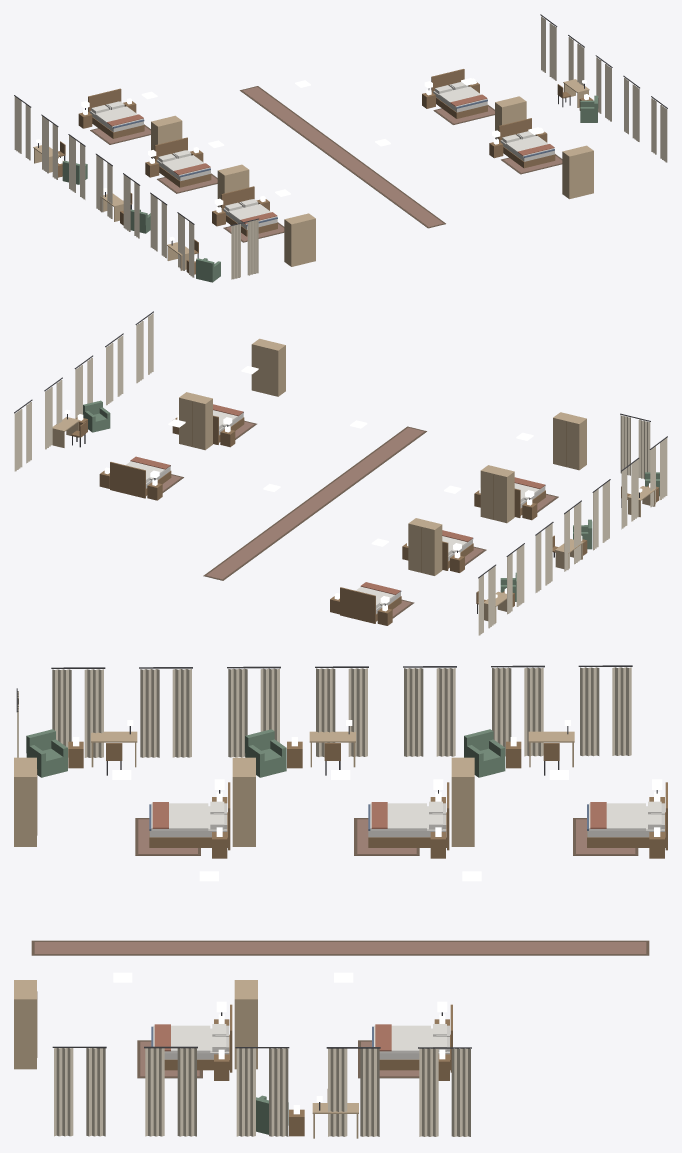
The model's file is fine-s3.glb.
3 views of the same model, one above another, from view 1: azimuth 30°, elevation 25°; view 2: azimuth 150°, elevation 25°; view 3: azimuth 270°, elevation 25° (orthographic). The views are drawn at different scales.
Parts seen in each view (by area): view 1: soft-s3, dresser.011, dresser.014, bed-frame.012, bed-frame.013, bed-frame.011, bed-frame.010, bed-frame.014, dresser.013, dresser.012, dresser.010, lounge-chair.011 (+1 smaller); view 2: soft-s3, dresser.013, dresser.012, dresser.011, dresser.014, dresser.010, bed-frame.010, bed-frame.012, lounge-chair.008, writing-desk.008; view 3: soft-s3, dresser.012, dresser.013, dresser.011, dresser.014, dresser.010, bed-frame.013, bed-frame.014, lounge-chair.009, bed-frame.012, lounge-chair.011, lounge-chair.010 (+5 smaller).
Part boxes in pixels (x1,y1,x2,y2): soft-s3: [14, 14, 667, 279]; dresser.011: [562, 145, 593, 199]; dresser.014: [284, 213, 315, 266]; bed-frame.012: [88, 88, 144, 138]; bed-frame.013: [154, 137, 211, 187]; bed-frame.011: [498, 118, 555, 168]; bed-frame.010: [431, 69, 487, 118]; bed-frame.014: [221, 186, 277, 236]; dresser.013: [217, 164, 249, 207]; dresser.012: [151, 115, 182, 158]; dresser.010: [495, 96, 526, 138]; lounge-chair.011: [196, 258, 220, 282]; soft-s3: [14, 311, 667, 635]; dresser.013: [480, 465, 514, 523]; dresser.012: [408, 518, 442, 575]; dresser.011: [251, 338, 285, 396]; dresser.014: [553, 412, 586, 470]; dresser.010: [179, 392, 212, 450]; bed-frame.010: [110, 462, 171, 498]; bed-frame.012: [340, 587, 401, 623]; lounge-chair.008: [83, 400, 110, 432]; writing-desk.008: [52, 409, 79, 447]; soft-s3: [16, 665, 663, 1136]; dresser.012: [451, 757, 474, 846]; dresser.013: [232, 757, 255, 846]; dresser.011: [14, 980, 37, 1069]; dresser.014: [14, 757, 37, 846]; dresser.010: [234, 980, 257, 1069]; bed-frame.013: [368, 782, 449, 850]; bed-frame.014: [149, 782, 230, 850]; lounge-chair.009: [464, 729, 505, 777]; bed-frame.012: [587, 782, 667, 850]; lounge-chair.011: [26, 729, 67, 777]; lounge-chair.010: [245, 729, 286, 777].
Bounding box in the file's own units: 23.46 × 2.61 × 16.95.
